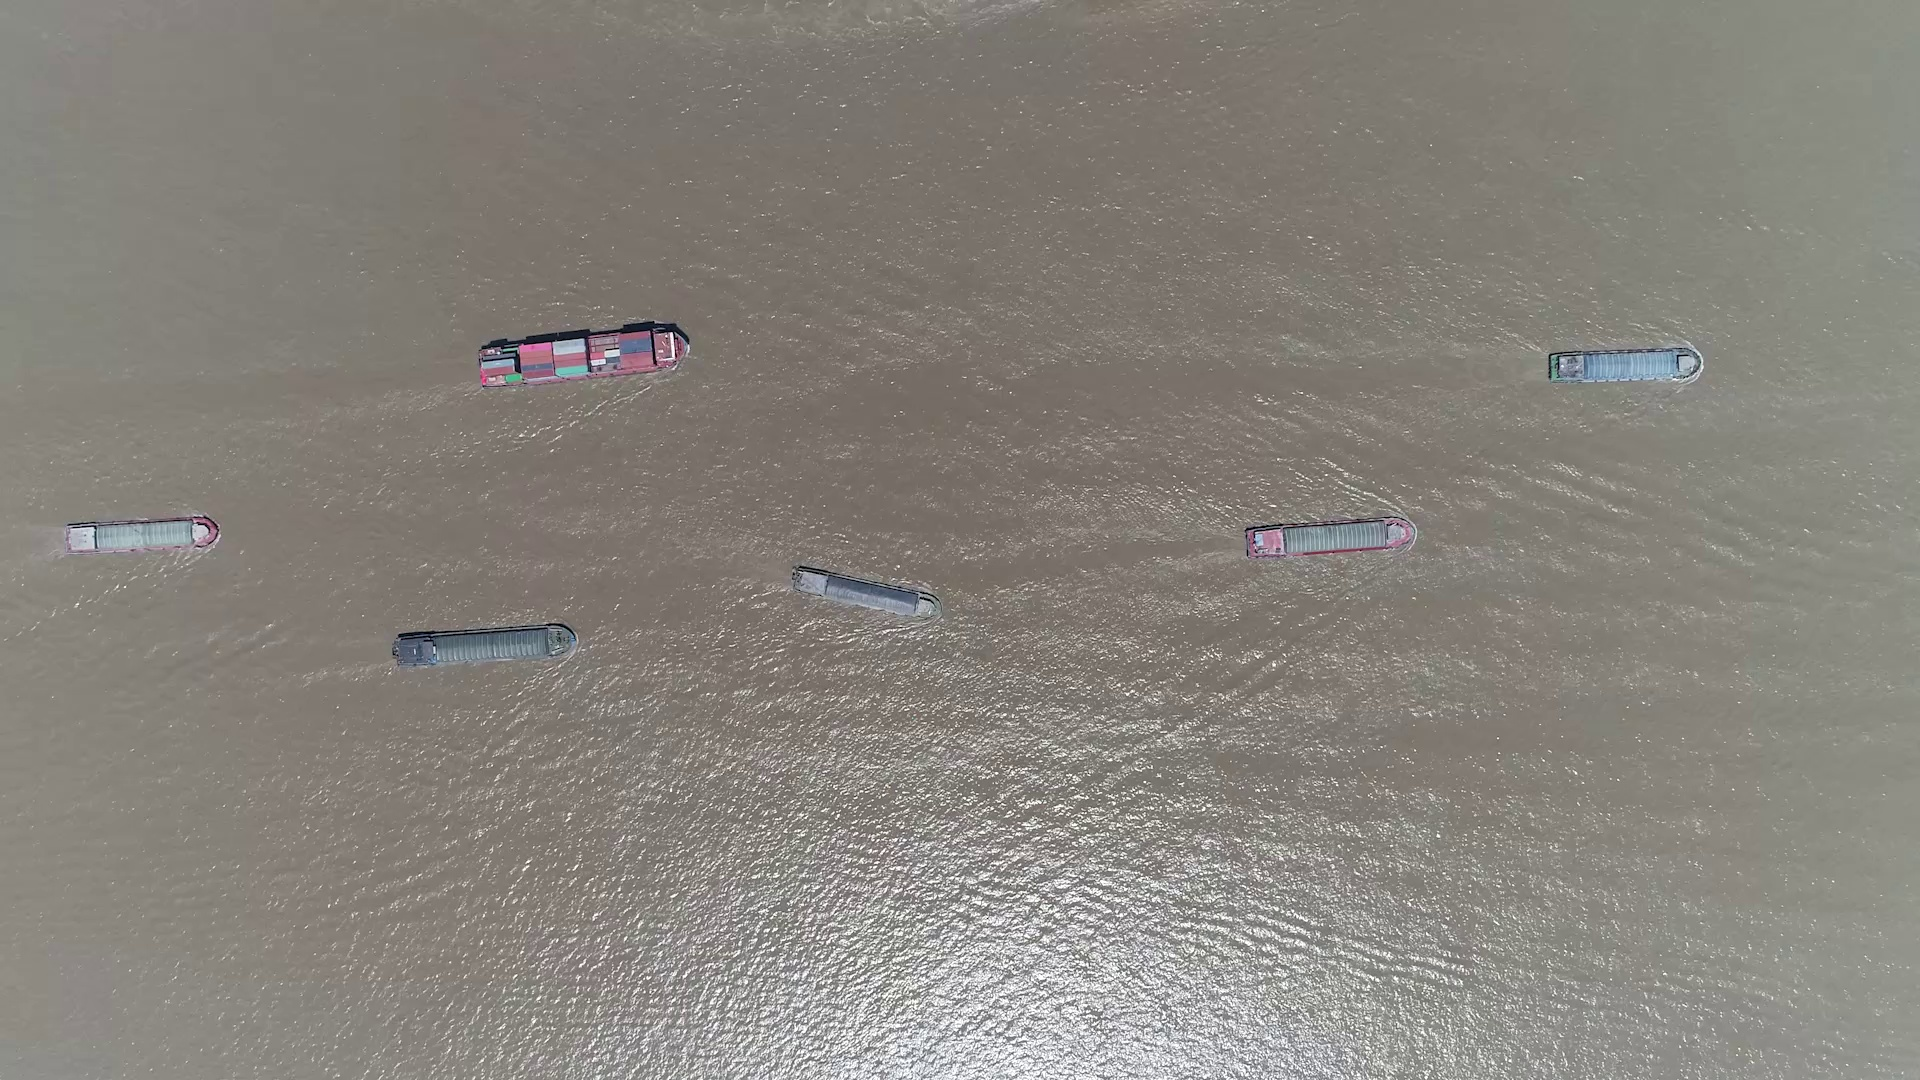ship: (477, 324, 690, 389), (392, 622, 579, 669), (790, 566, 938, 618), (1244, 516, 1415, 558), (65, 517, 218, 553), (1548, 349, 1700, 384)
